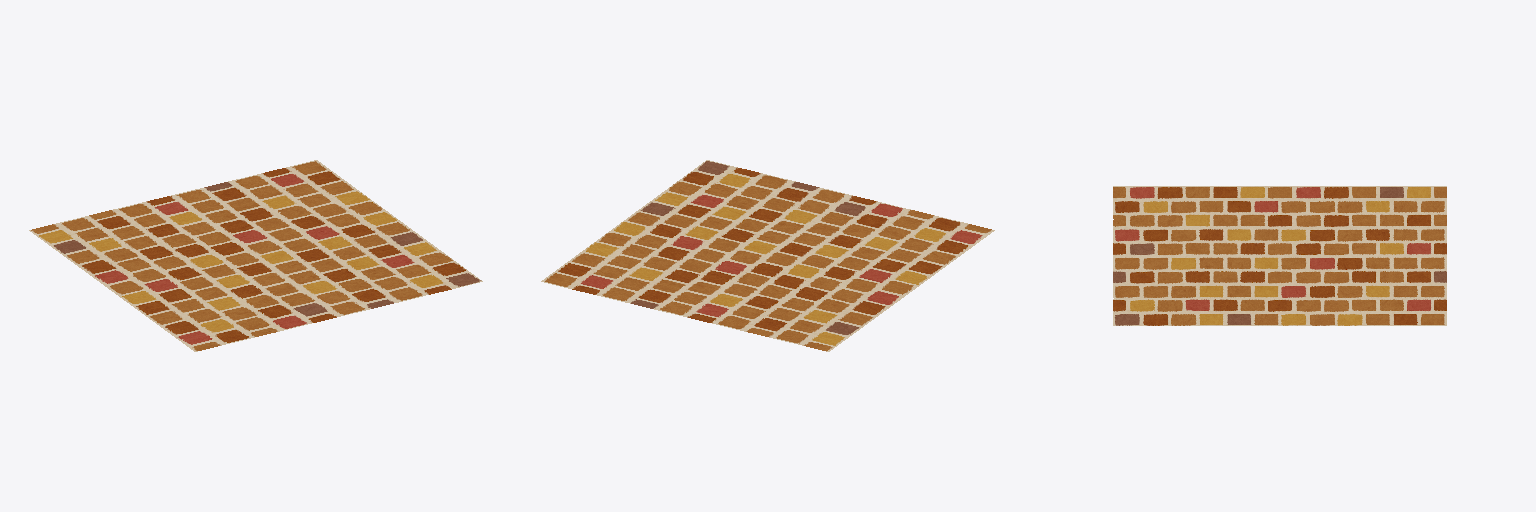
3 renders of one model, left to right at view 1: azimuth 30°, elevation 25°; view 2: azimuth 150°, elevation 25°; view 3: azimuth 270°, elevation 25°, orthographic.
Visible parts, largest first — view 1: 平面; view 2: 平面; view 3: 平面.
Boxes of the visible parts, x1,y1,x2,y2 form: 平面: [29, 160, 482, 351]; 平面: [541, 160, 994, 351]; 平面: [1113, 186, 1446, 325].
Bounding box in the file's own units: 2 × 0 × 2.
Materials: 1 (1 with a texture image).